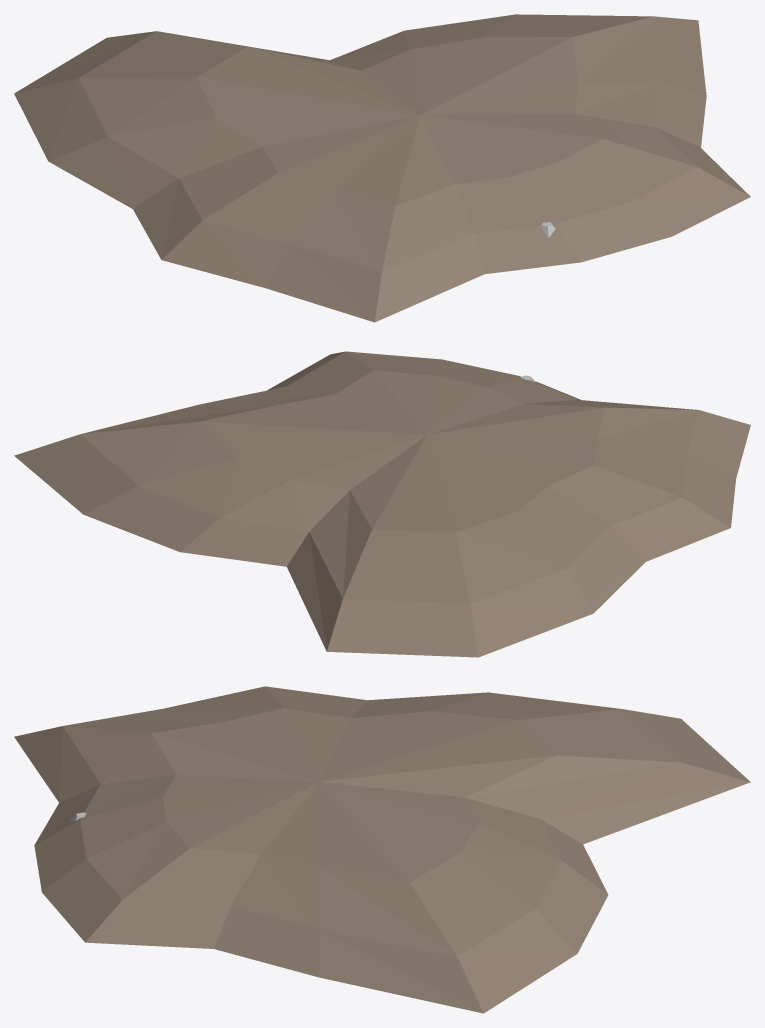
Rendered from temperate-forest-ecology-bare-soil-scrape-633fe043__3861.glb.
The picture shows the model from 3 angles, top to bottom: view 1: azimuth 30°, elevation 25°; view 2: azimuth 150°, elevation 25°; view 3: azimuth 270°, elevation 25°; orthographic projection. The views are drawn at different scales.
Parts seen in each view (by area): view 1: bare-soil-scrape; view 2: bare-soil-scrape; view 3: bare-soil-scrape.
Part boxes in pixels (left/top/right/bottom): bare-soil-scrape: left=14, top=14, right=750, bottom=322; bare-soil-scrape: left=14, top=351, right=750, bottom=657; bare-soil-scrape: left=14, top=686, right=750, bottom=1013.
Bounding box in the file's own units: 1.73 × 0.1301 × 1.66.
